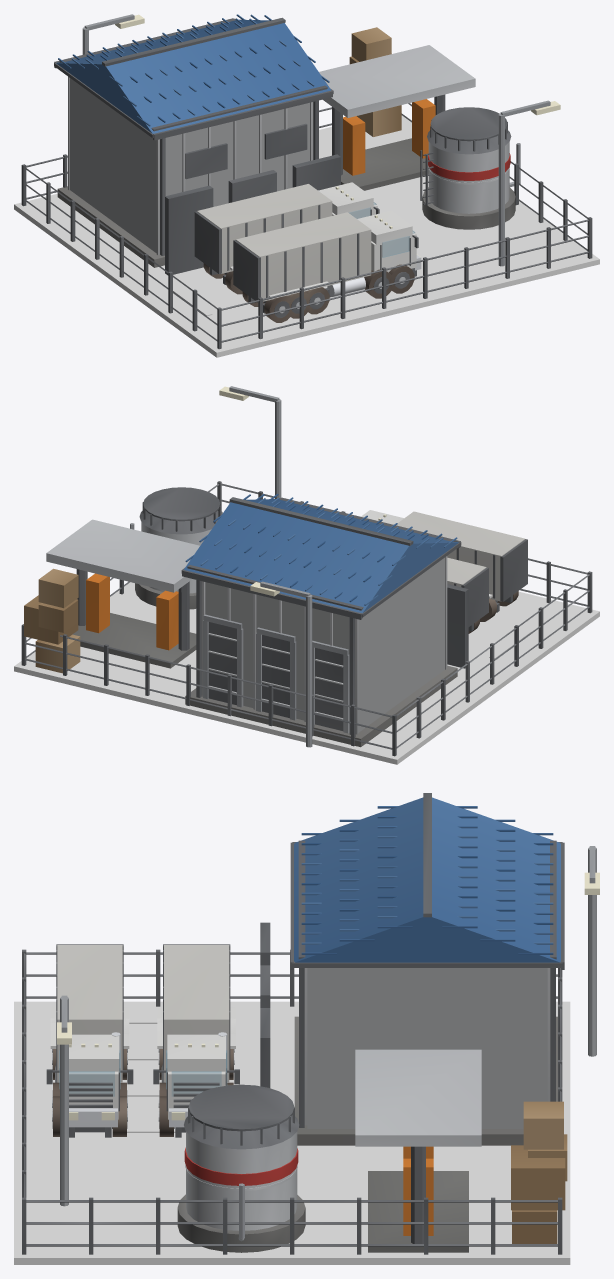
Rendered from Fleet_P2.fbx.
The picture shows the model from 3 angles, top to bottom: view 1: azimuth 30°, elevation 25°; view 2: azimuth 150°, elevation 25°; view 3: azimuth 270°, elevation 25°; orthographic projection. The views are drawn at different scales.
Parts seen in each view (by area): view 1: Fleet.Garage, Fleet.Yard, Fleet.Parked1, Fleet.FuelIsland, Fleet.FuelTank, Fleet.Fence, Fleet.Parked0, Fleet.Doors, Fleet.Crates, Fleet.Lamp1, Fleet.Lamp0; view 2: Fleet.Garage, Fleet.Yard, Fleet.FuelIsland, Fleet.Fence, Fleet.Parked1, Fleet.Crates, Fleet.FuelTank, Fleet.Parked0, Fleet.Doors, Fleet.Lamp0, Fleet.Lamp1; view 3: Fleet.Garage, Fleet.Yard, Fleet.FuelIsland, Fleet.FuelTank, Fleet.Parked1, Fleet.Parked0, Fleet.Fence, Fleet.Crates, Fleet.Lamp0, Fleet.Lamp1, Fleet.Doors, Fleet.Bays.
Boxes of the visible parts, left/top/right/bottom form: Fleet.Garage: left=54, top=14, right=333, bottom=267; Fleet.Yard: left=14, top=115, right=599, bottom=357; Fleet.Parked1: left=233, top=211, right=421, bottom=322; Fleet.FuelIsland: left=319, top=45, right=475, bottom=190; Fleet.FuelTank: left=420, top=107, right=520, bottom=229; Fleet.Fence: left=21, top=103, right=592, bottom=349; Fleet.Parked0: left=194, top=182, right=379, bottom=294; Fleet.Doors: left=165, top=154, right=340, bottom=275; Fleet.Crates: left=349, top=27, right=401, bottom=136; Fleet.Lamp1: left=498, top=100, right=560, bottom=266; Fleet.Lamp0: left=82, top=14, right=144, bottom=54; Fleet.Garage: left=181, top=493, right=461, bottom=747; Fleet.Yard: left=14, top=582, right=599, bottom=764; Fleet.FuelIsland: left=46, top=519, right=199, bottom=668; Fleet.Fence: left=21, top=481, right=592, bottom=756; Fleet.Parked1: left=361, top=510, right=527, bottom=621; Fleet.Crates: left=24, top=568, right=80, bottom=673; Fleet.FuelTank: left=130, top=487, right=222, bottom=609; Fleet.Parked0: left=447, top=557, right=488, bottom=633; Fleet.Doors: left=447, top=584, right=468, bottom=668; Fleet.Lamp0: left=250, top=581, right=312, bottom=747; Fleet.Lamp1: left=219, top=386, right=281, bottom=498; Fleet.Garage: left=290, top=793, right=564, bottom=1145; Fleet.Yard: left=14, top=1001, right=570, bottom=1264; Fleet.FuelIsland: left=355, top=1049, right=481, bottom=1252; Fleet.FuelTank: left=177, top=1084, right=305, bottom=1252; Fleet.Parked1: left=46, top=944, right=133, bottom=1137; Fleet.Parked0: left=153, top=944, right=239, bottom=1137; Fleet.Fence: left=22, top=949, right=562, bottom=1254; Fleet.Crates: left=511, top=1101, right=567, bottom=1243; Fleet.Lamp0: left=584, top=846, right=599, bottom=1056; Fleet.Lamp1: left=57, top=995, right=71, bottom=1206; Fleet.Doors: left=260, top=922, right=270, bottom=1087; Fleet.Bays: left=127, top=1019, right=185, bottom=1132.
Bounding box in the file's own units: 2422 × 1050 × 2318.
